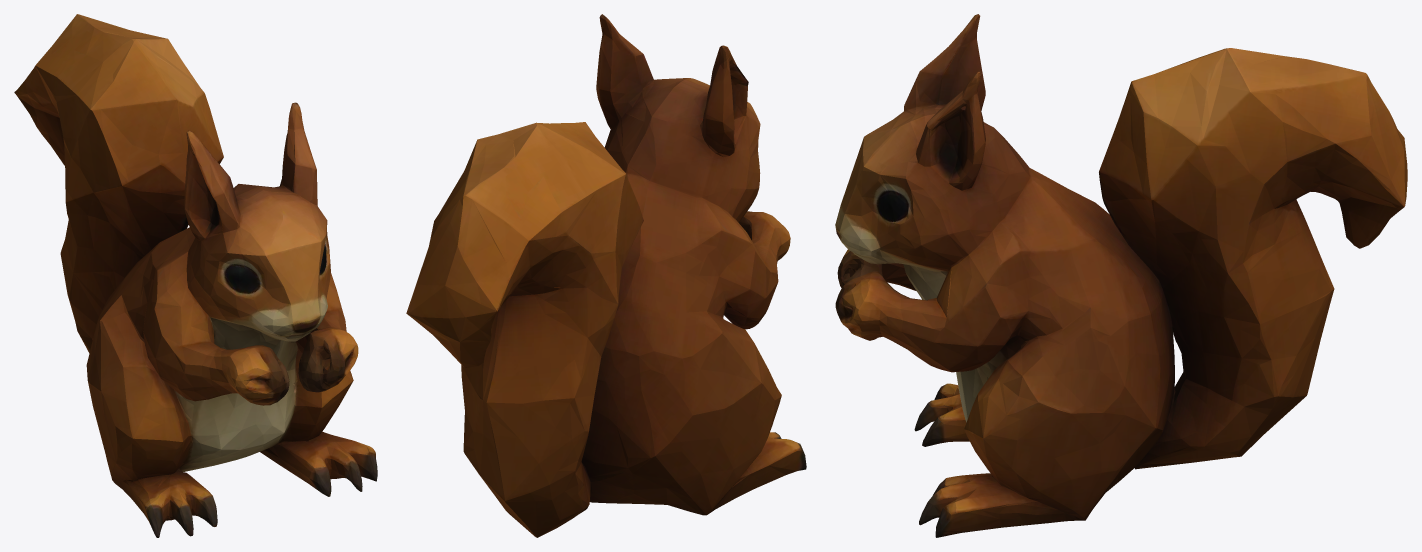
The model's file is squirrel.glb.
The picture shows the model from 3 angles, left to right: view 1: azimuth 30°, elevation 25°; view 2: azimuth 150°, elevation 25°; view 3: azimuth 270°, elevation 25°; orthographic projection. The views are drawn at different scales.
Visible parts, largest first — view 1: world; view 2: world; view 3: world.
Boxes of the visible parts, x1,y1,x2,y2 form: world: (14, 14, 377, 537); world: (406, 14, 806, 537); world: (835, 14, 1407, 537).
Size of the model in its own units: 0.5384 by 0.8333 by 0.9978.
Materials: 1 (1 with a texture image).
